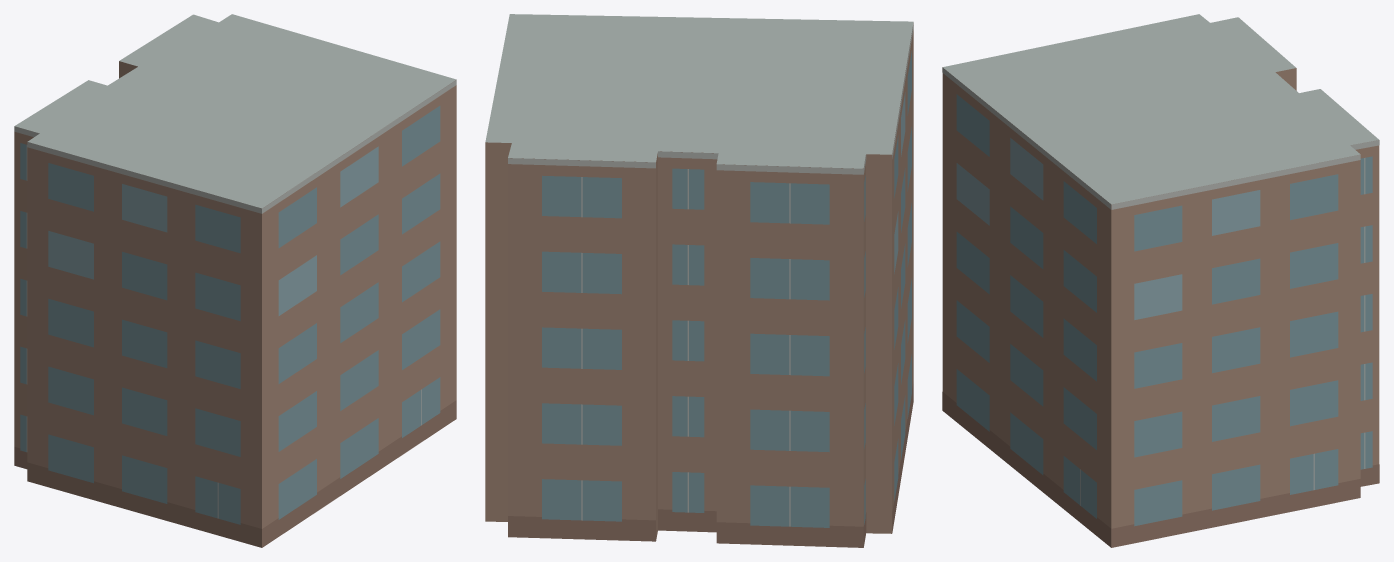
File: survey-upis-32915823.glb
3 renders of one model, left to right at view 1: azimuth 30°, elevation 25°; view 2: azimuth 150°, elevation 25°; view 3: azimuth 270°, elevation 25°, orthographic. The views are drawn at different scales.
Visible parts, largest first — view 1: survey-upis-32915823.tmp; view 2: survey-upis-32915823.tmp; view 3: survey-upis-32915823.tmp.
Boxes of the visible parts, x1=… form: survey-upis-32915823.tmp: x1=14, y1=14, x2=456, y2=547; survey-upis-32915823.tmp: x1=485, y1=14, x2=913, y2=547; survey-upis-32915823.tmp: x1=942, y1=14, x2=1379, y2=547.
Size of the model in its own units: 18.15 by 15.25 by 17.6.
